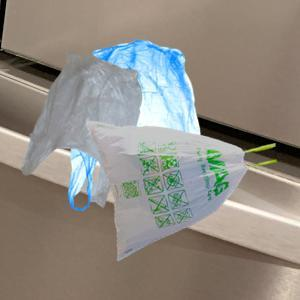plastic_bag: (17, 50, 143, 210)
